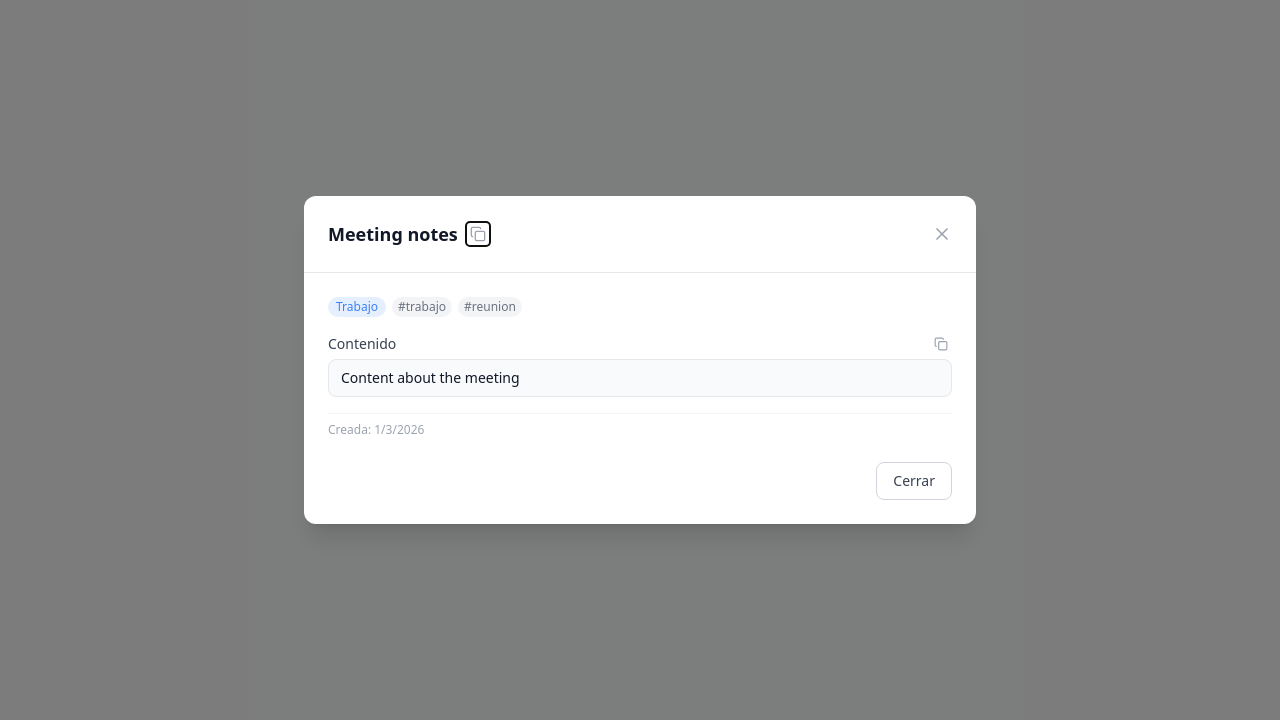
Test: NoteViewModal › copia el contenido de forma independiente del título
What coordinates should you click on to do the following:
click the button named "Copiar contenido"
I would click on:
 (941, 344)
Its box is x1=930 y1=333 x2=952 y2=355.
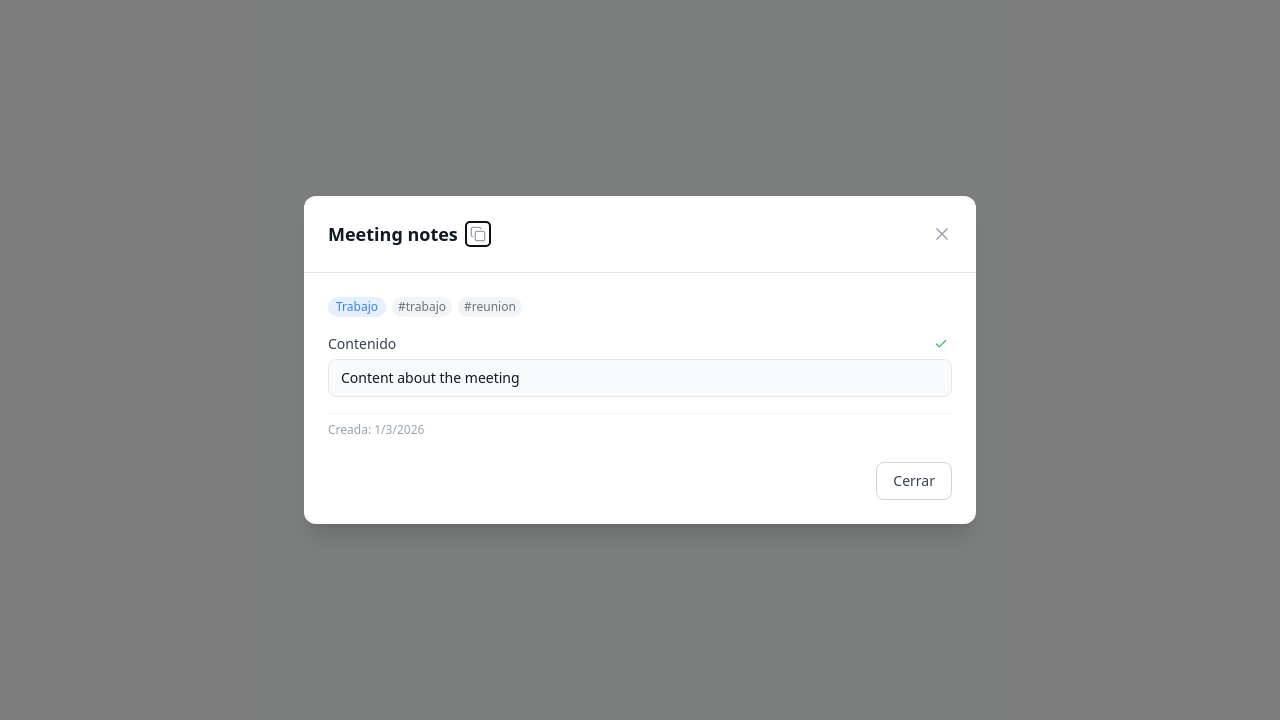
Now the icon in the row of "Contenido" is shown, box x1=934 y1=337 x2=948 y2=351
